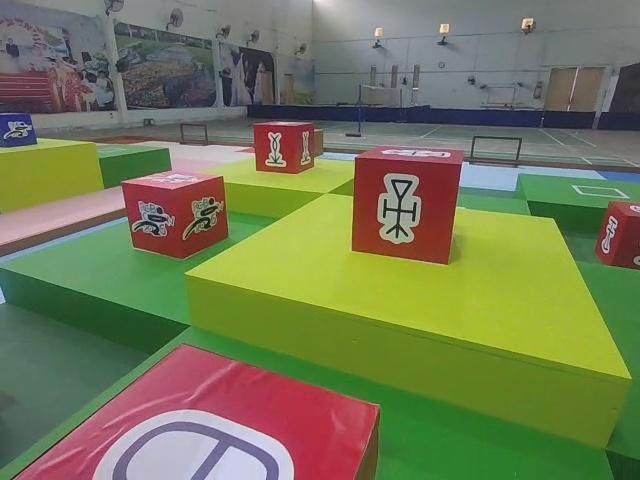R1: (121, 167, 231, 262)
R2 Fake: (7, 339, 383, 480)
R2 Real: (349, 142, 465, 268), (251, 119, 316, 177)
